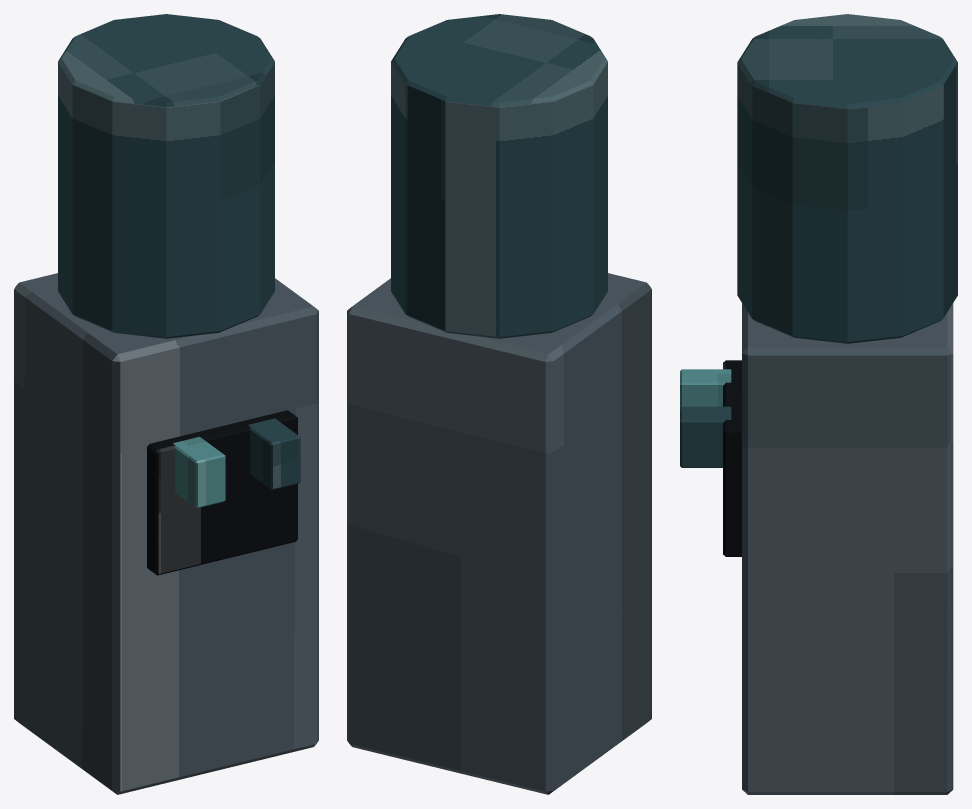
Rendered from office_water_cooler_charcoal.glb.
The picture shows the model from 3 angles, left to right: view 1: azimuth 30°, elevation 25°; view 2: azimuth 150°, elevation 25°; view 3: azimuth 270°, elevation 25°; orthographic projection.
Visible parts, largest first — view 1: CoolerBody, Bottle, DispenserWell, Tap_1, Tap_0; view 2: CoolerBody, Bottle; view 3: CoolerBody, Bottle, DispenserWell, Tap_1, Tap_0.
Part boxes in pixels (<box>): CoolerBody: <box>14,273,318,794</box>; Bottle: <box>58,14,274,338</box>; DispenserWell: <box>147,410,297,575</box>; Tap_1: <box>248,418,300,489</box>; Tap_0: <box>173,436,225,508</box>; CoolerBody: <box>347,273,651,794</box>; Bottle: <box>391,14,607,338</box>; CoolerBody: <box>742,303,953,794</box>; Bottle: <box>737,14,957,343</box>; DispenserWell: <box>723,360,741,556</box>; Tap_1: <box>680,406,731,467</box>; Tap_0: <box>680,369,731,407</box>.
Bounding box in the file's own units: 0.55 × 1.72 × 0.63.
1 material, 1 textured.
